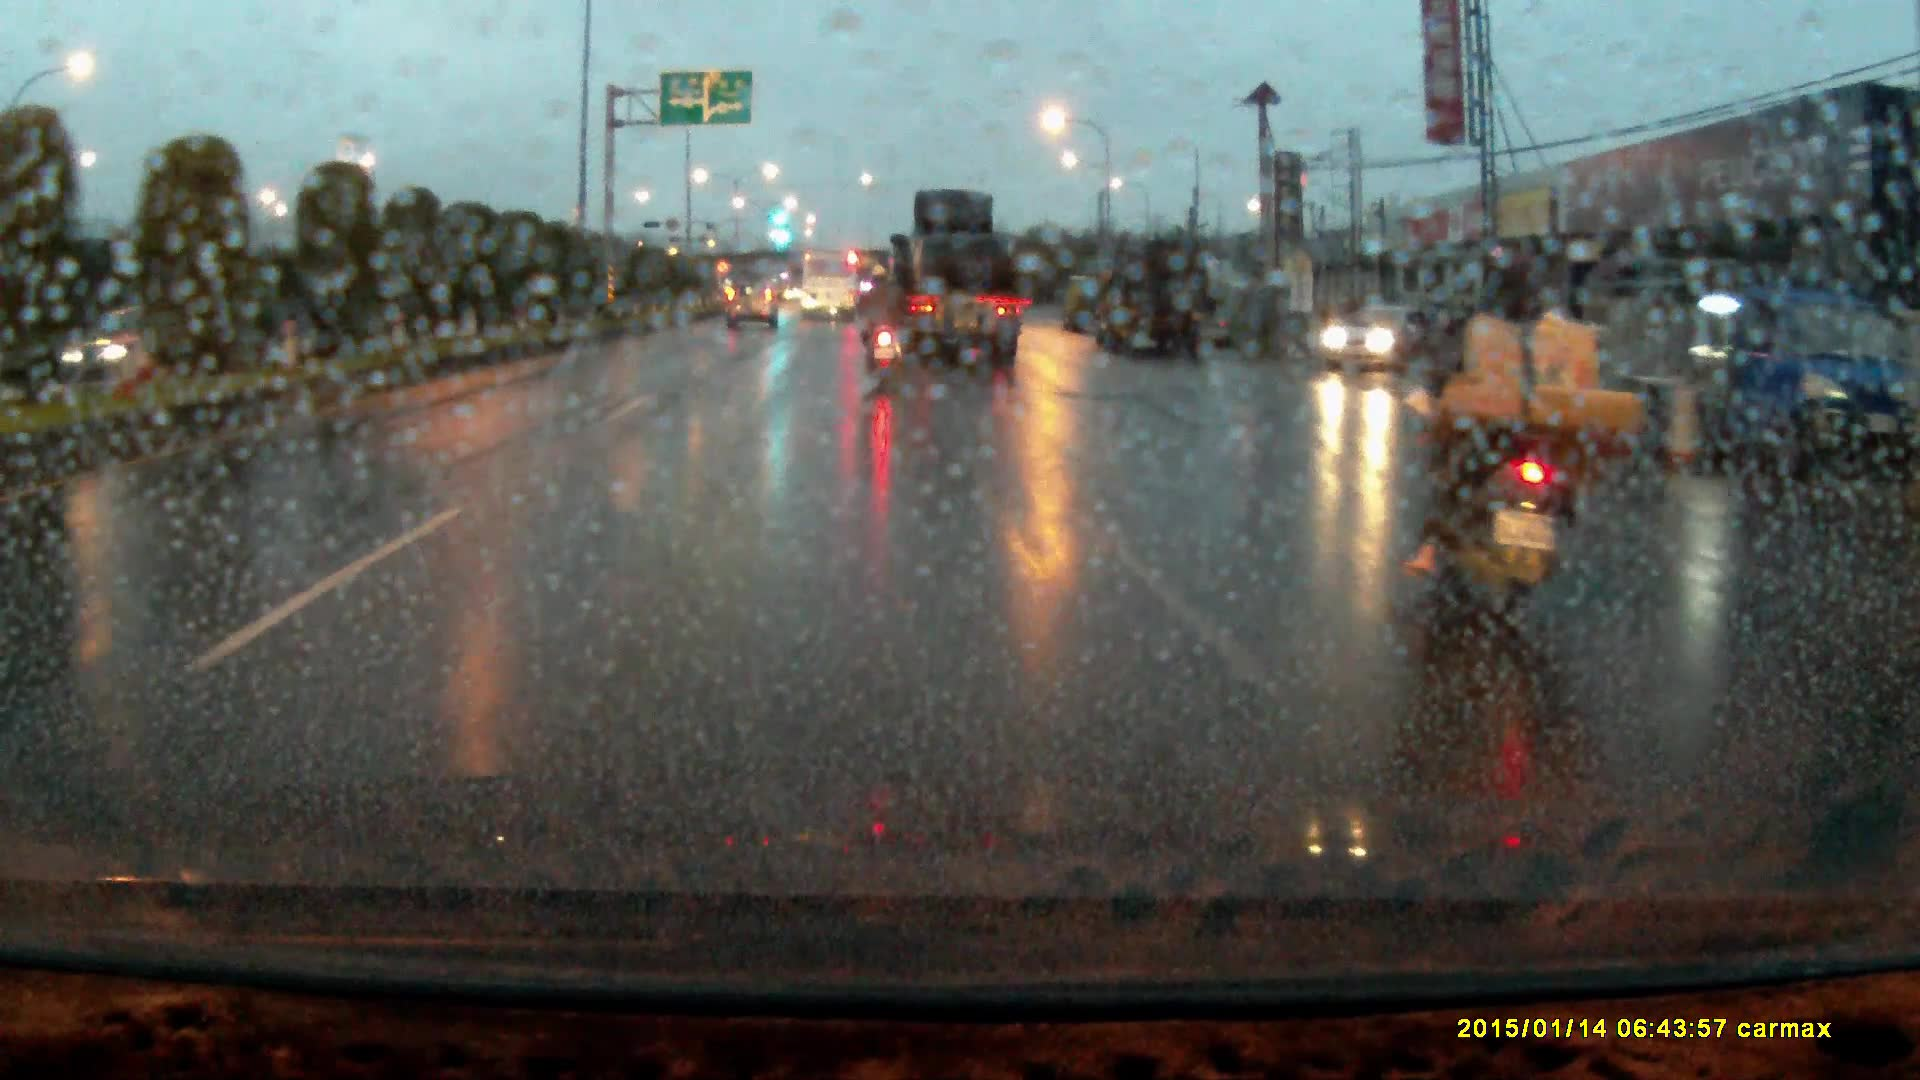rider: (1403, 250, 1650, 664), (857, 265, 911, 383)
vehicle: (1611, 291, 1896, 477), (877, 197, 1016, 373), (1101, 247, 1218, 367), (1318, 310, 1428, 378), (800, 256, 860, 329), (1060, 279, 1113, 339), (727, 285, 781, 337)
